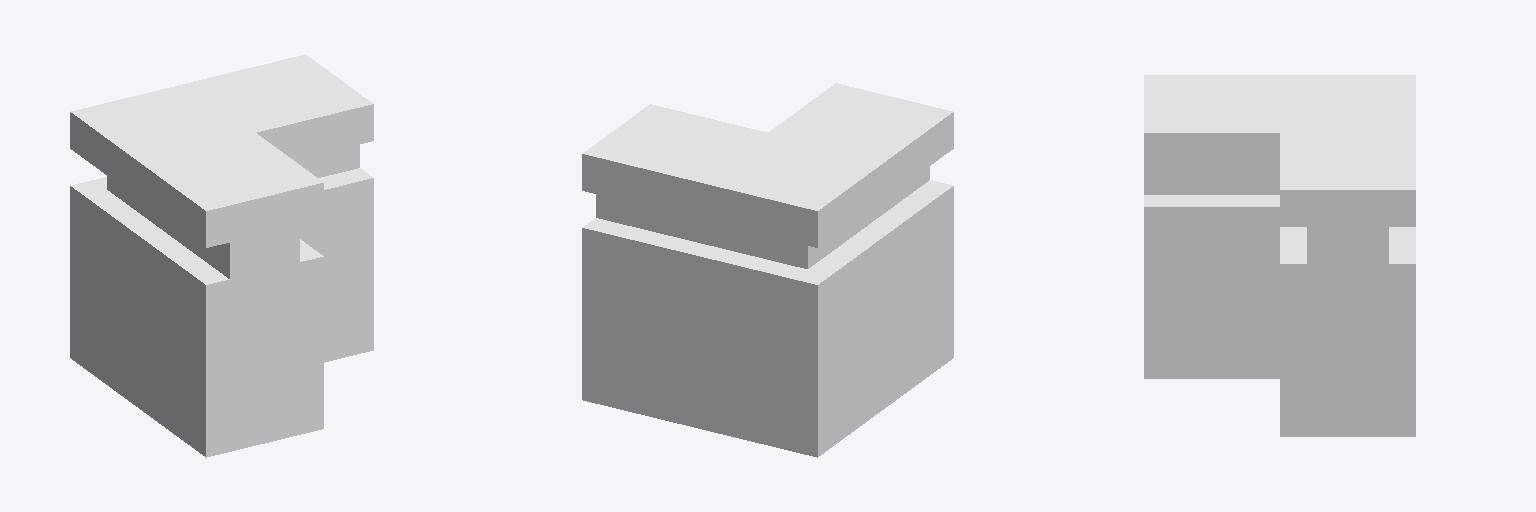
Rendered from bridge5.vox.obj.
3 renders of one model, left to right at view 1: azimuth 30°, elevation 25°; view 2: azimuth 150°, elevation 25°; view 3: azimuth 270°, elevation 25°, orthographic.
Parts seen in each view (by area): view 1: object 1; view 2: object 1; view 3: object 1.
Boxes of the visible parts, <box> form: object 1: <box>70,54,373,457</box>; object 1: <box>582,83,953,457</box>; object 1: <box>1144,75,1415,436</box>.
Bounding box in the file's own units: 2 × 2 × 2.